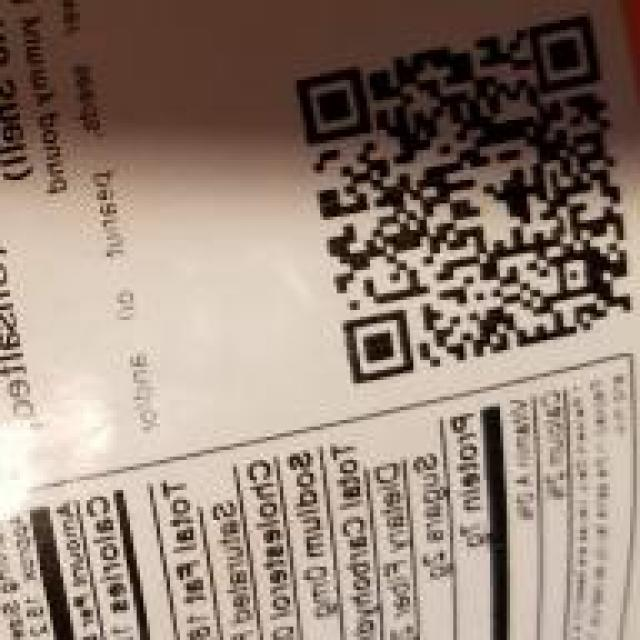qr_code: (295, 15, 633, 386)
